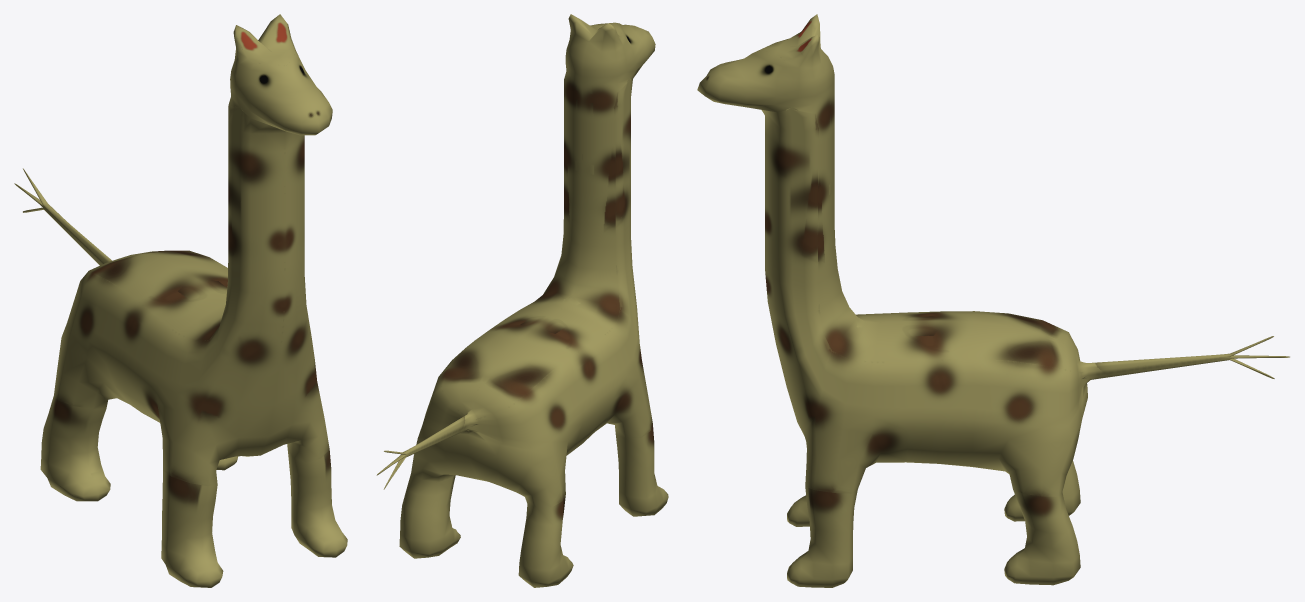
File: kirio.glb
3 views of the same model, side by side, from view 1: azimuth 30°, elevation 25°; view 2: azimuth 150°, elevation 25°; view 3: azimuth 270°, elevation 25° (orthographic). The views are drawn at different scales.
Parts seen in each view (by area): view 1: Cube; view 2: Cube; view 3: Cube.
Part boxes in pixels (<box>): Cube: <box>14,14,347,587</box>; Cube: <box>376,14,668,587</box>; Cube: <box>697,14,1289,587</box>.
Size of the model in its own units: 1.56 by 4.57 by 4.65.
Materials: 1 (1 with a texture image).
